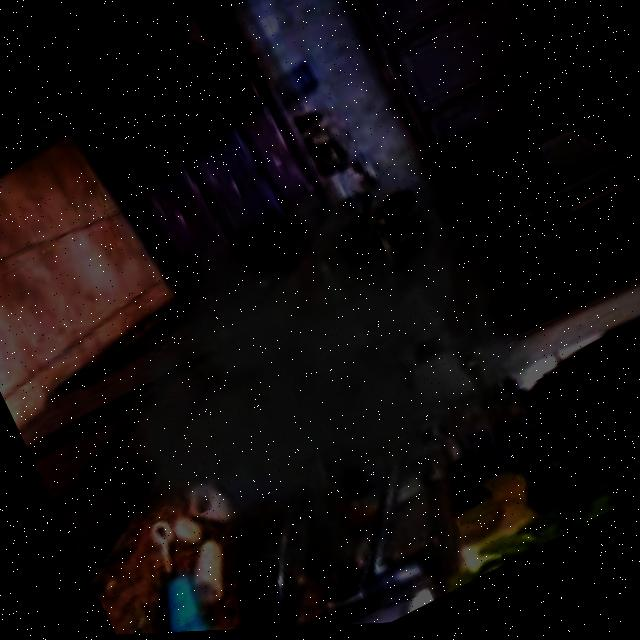Smoke: (28, 67, 640, 639)
